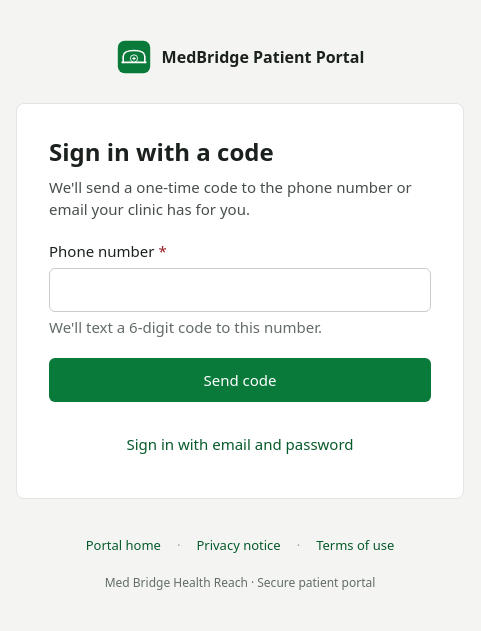
PortalCodeSignIn › asks for a valid Nigerian mobile number before sending
Type "12345" into the field labelled "Phone number*".
click(240, 290); type("12345")  # box [49,268,431,312]
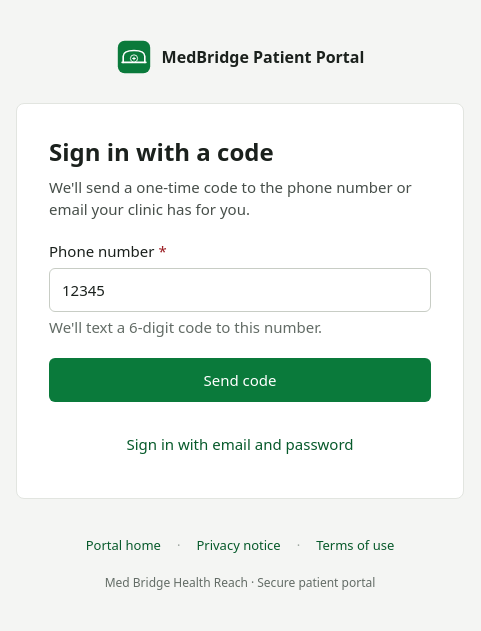
Click the button "Send code".
click(240, 380)  # box [49,358,431,402]
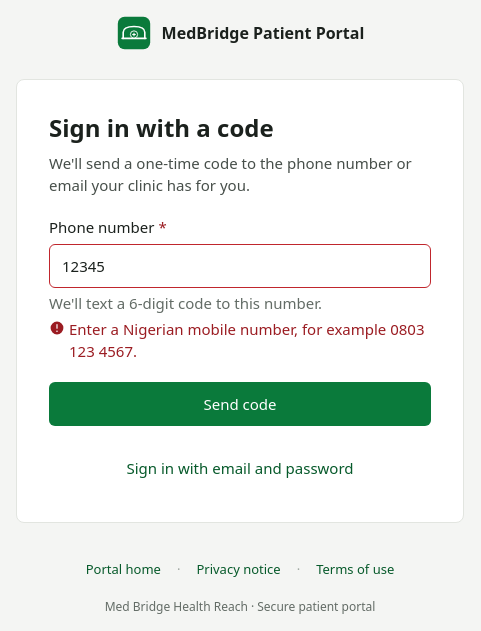
Check: the text "Enter a Nigerian mobile number, for example 0803 123 4567." is shown, box [69,318,431,362]
